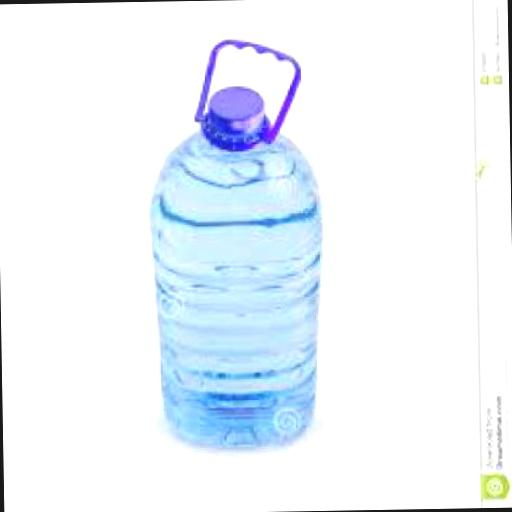plastic: (146, 36, 323, 449), (190, 36, 300, 152)
